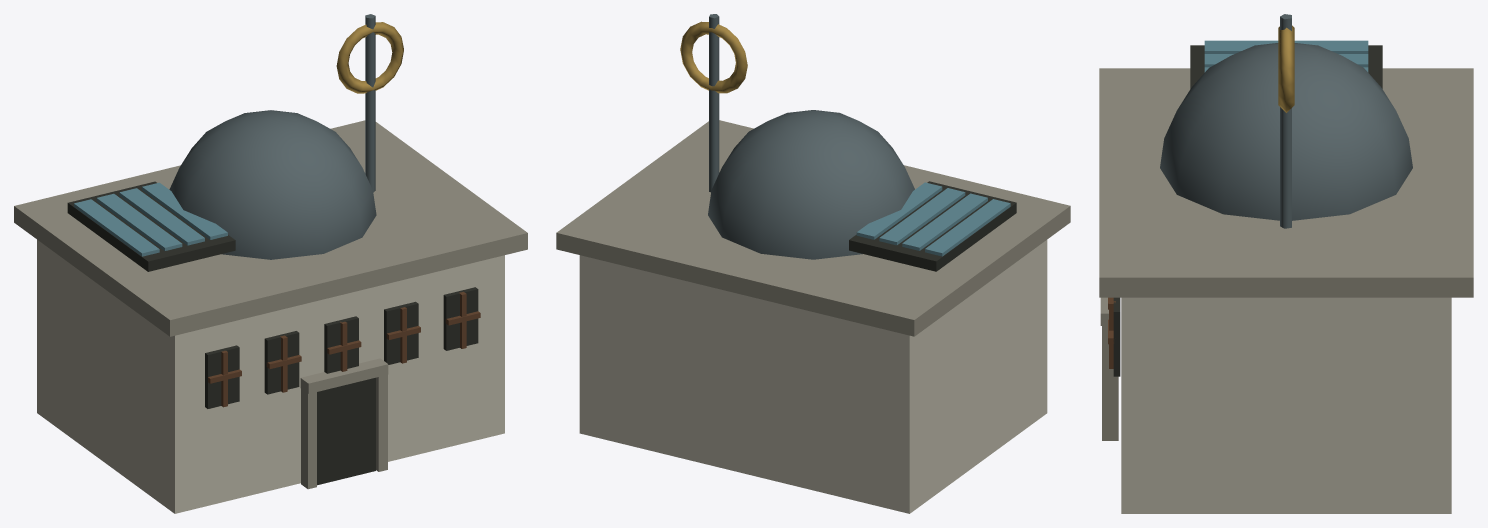
Rendered from custom-cb-lab.glb.
3 renders of one model, left to right at view 1: azimuth 30°, elevation 25°; view 2: azimuth 150°, elevation 25°; view 3: azimuth 270°, elevation 25°, orthographic. The views are drawn at different scales.
Visible parts, largest first — view 1: custom-cb-lab; view 2: custom-cb-lab; view 3: custom-cb-lab.
Part boxes in pixels (x1,y1,x2,y2): custom-cb-lab: [14, 14, 527, 513]; custom-cb-lab: [556, 14, 1070, 513]; custom-cb-lab: [1099, 14, 1473, 513].
Size of the model in its own units: 1 by 1.02 by 0.7556.
